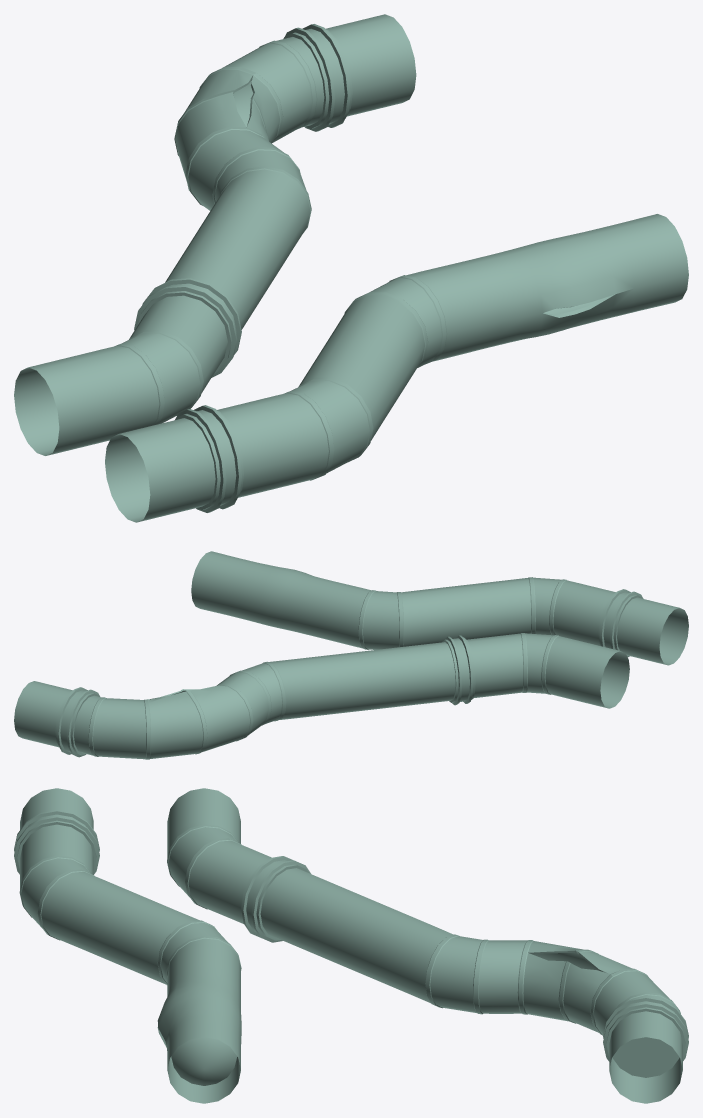
File: PipeComplexLarge_B_15.fbx
3 renders of one model, top to bottom at view 1: azimuth 30°, elevation 25°; view 2: azimuth 150°, elevation 25°; view 3: azimuth 270°, elevation 25°, orthographic. The views are drawn at different scales.
Visible parts, largest first — view 1: PipeComplexLarge_B_15.001; view 2: PipeComplexLarge_B_15.001; view 3: PipeComplexLarge_B_15.001.
Part boxes in pixels (x1,y1,x2,y2): PipeComplexLarge_B_15.001: (14, 14, 688, 522); PipeComplexLarge_B_15.001: (14, 551, 688, 759); PipeComplexLarge_B_15.001: (14, 788, 688, 1103).
Size of the model in its own units: 1.6 by 0.2343 by 1.83.
